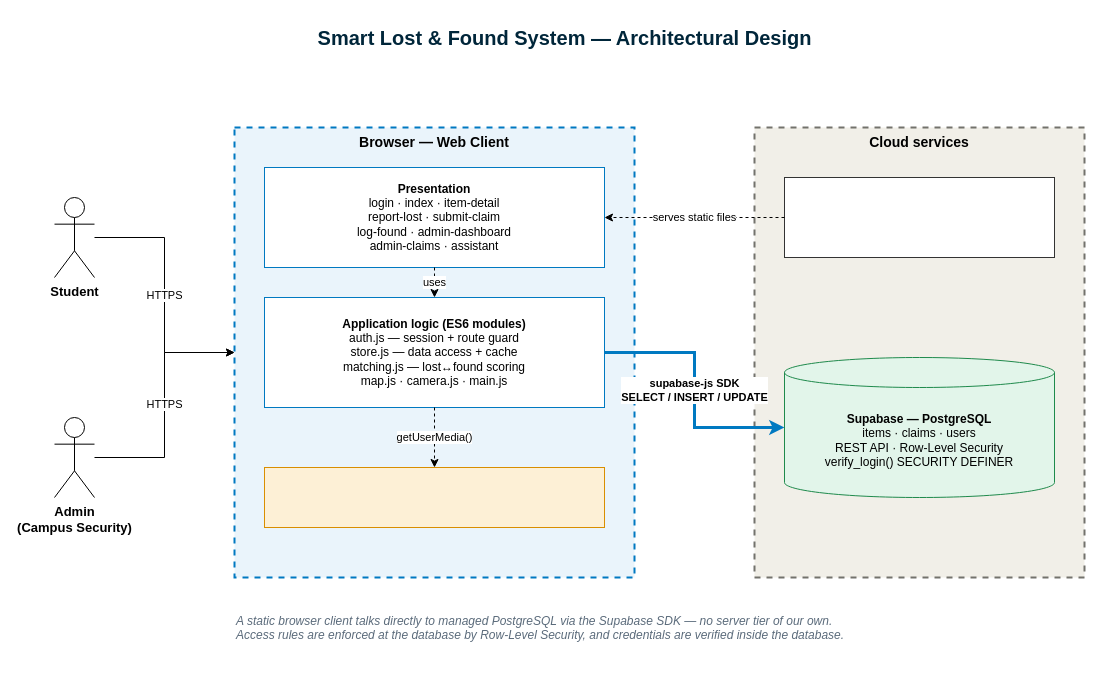
This 1103x674 diagram has some shape labels left out. The shapes that lost their labels are listed below. From the top down, each one's centre as x and y in pixels, then its label:
At pixel 919 217: "Vercel Static hosting / CDN HTTPS, auto-deploy from GitHub".
At pixel 434 497: "MediaDevices API getUserMedia() — device camera".
